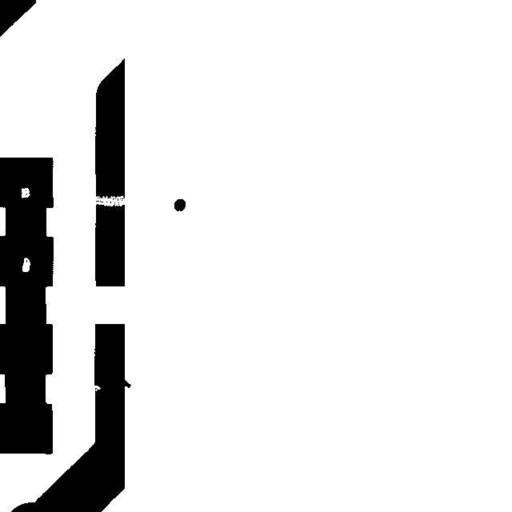copper: (166, 191, 193, 218)
mousebite: (85, 378, 108, 398)
open: (78, 188, 134, 214)
pin-hole: (14, 250, 38, 279), (14, 180, 38, 206)
spur: (114, 371, 138, 395)
